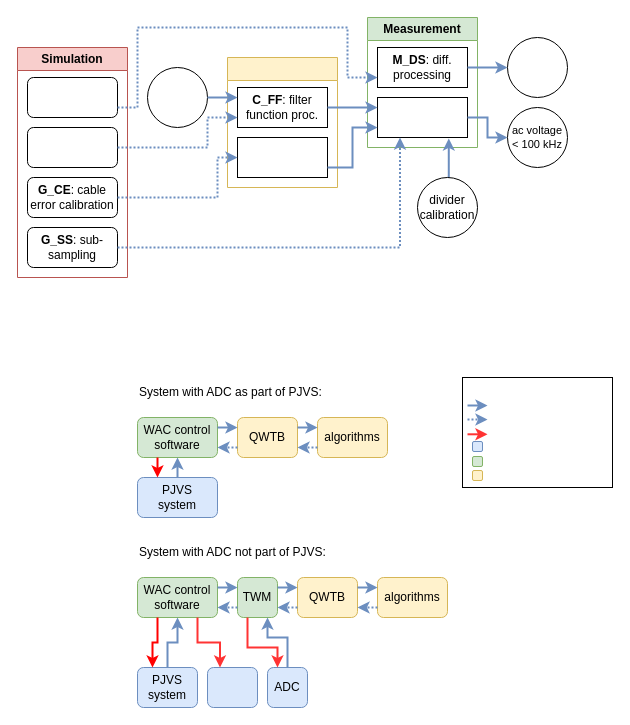
The diagram is 630 pixels wide and 725 high, and some of its shapes have lost their labels. The shapes that lost their labels are listed below. From the top down, each one's box as (x1, y1, x2, y2) in pixels, then its label:
(506, 36, 568, 98): ac voltage < 1 kHz
(26, 76, 118, 118): G_DS : diff. sampling
(146, 66, 208, 128): calibr. of ac-dc transfer stand.
(376, 96, 468, 138): M_SS : sub-samp. proc.
(226, 56, 338, 188): Calibration
(26, 126, 118, 168): G_FF : filter fun. calibration
(236, 136, 328, 178): C_CE : cable error proc.
(462, 376, 612, 488): legend: measurement data results settings GUI software hardware data processing
(206, 666, 258, 708): trigger source
